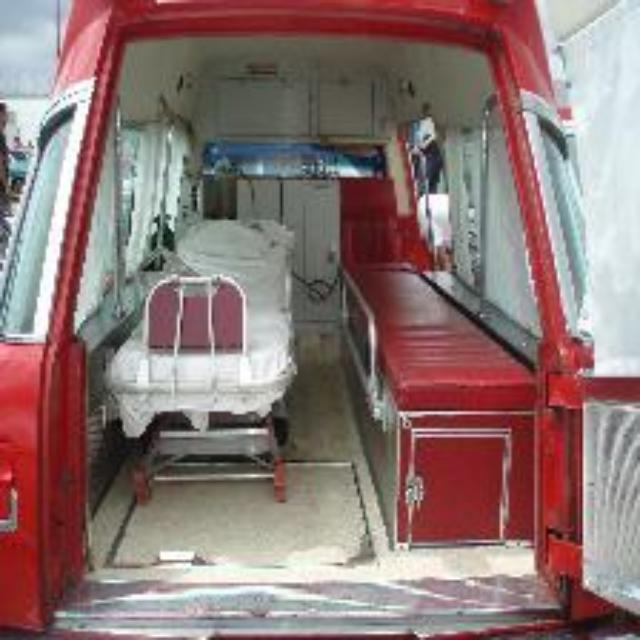emergency: (9, 33, 614, 613)
